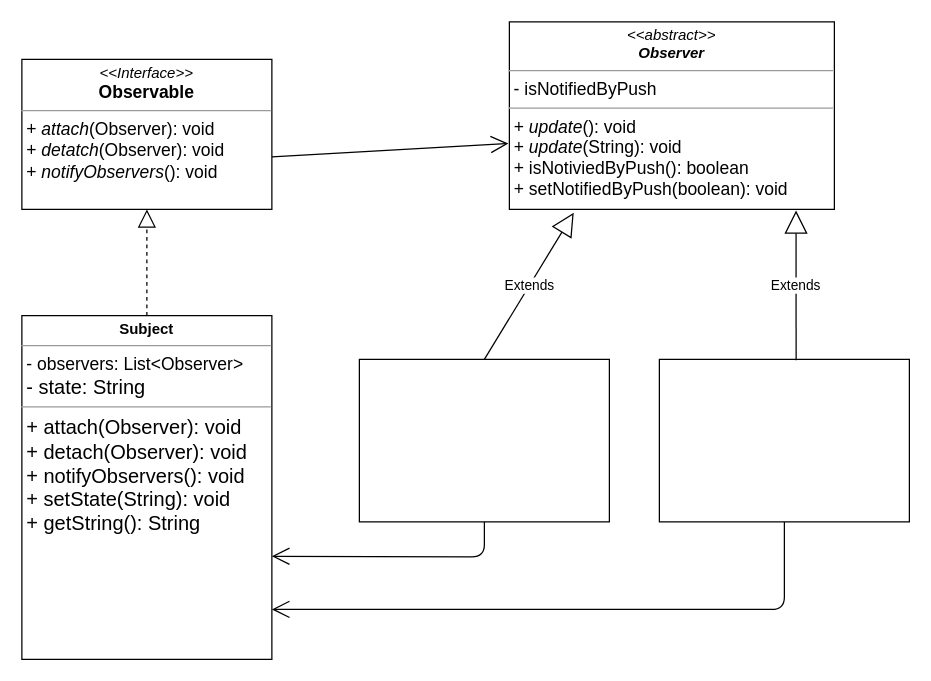
Some shapes in this 931 by 681 pixel diagram are drawn without their labels. The shapes that lost their labels are listed below. From the top down, each one's centre as x and y in pixels, then its label:
pixel 483 440: Observer_1 - name: String - s: Subject + update (): void + update (String): void
pixel 783 440: Observer_2 - name: String - s: Subject + update (): void + update (String): void
